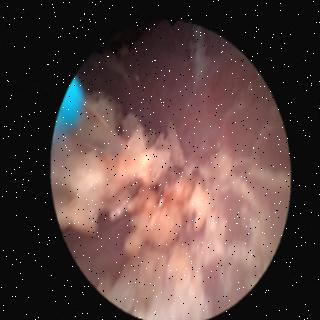fiber: (56, 78, 83, 134)
stone: (52, 97, 180, 233), (125, 178, 210, 253)
